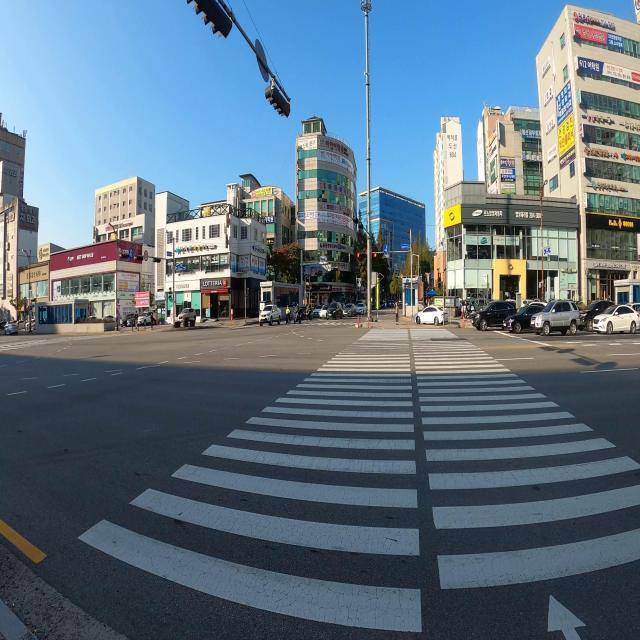crosswalk: (48, 323, 639, 638), (0, 333, 136, 352), (282, 320, 358, 327), (371, 309, 401, 312)
